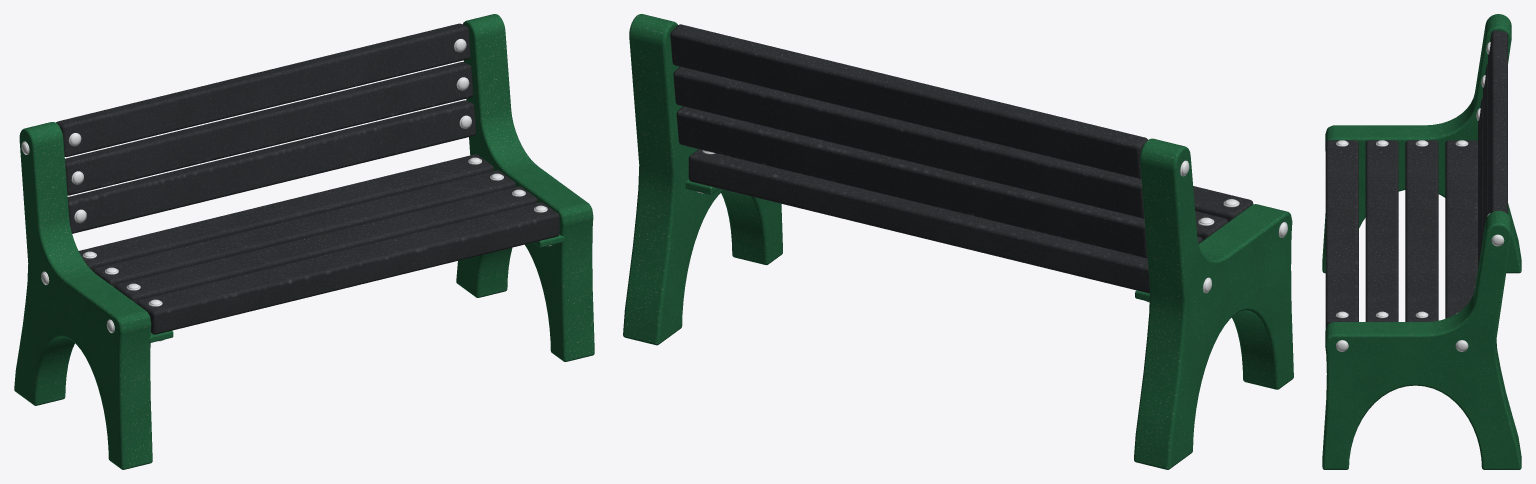
The model's file is banca-claude-texturas-v1.glb.
3 views of the same model, side by side, from view 1: azimuth 30°, elevation 25°; view 2: azimuth 150°, elevation 25°; view 3: azimuth 270°, elevation 25° (orthographic). The views are drawn at different scales.
Visible parts, largest first — view 1: Claude | Soporte izquierdo, Claude | Soporte derecho, Claude | Asiento listón 01, Claude | Respaldo listón 03, Claude | Respaldo listón 02, Claude | Respaldo listón 01, Claude | Asiento listón 03, Claude | Asiento listón 02, Claude | Asiento listón 04; view 2: Claude | Soporte izquierdo, Claude | Soporte derecho, Claude | Respaldo listón 03, Claude | Respaldo listón 02, Claude | Respaldo listón 01, Claude | Asiento listón 04, Claude | Asiento listón 01; view 3: Claude | Soporte derecho, Claude | Asiento listón 01, Claude | Soporte izquierdo, Claude | Asiento listón 02, Claude | Asiento listón 03, Claude | Asiento listón 04, Claude | Respaldo listón 03, Claude | Respaldo listón 02, Claude | Respaldo listón 01.
Boxes of the visible parts, x1,y1,x2,y2 form: Claude | Soporte izquierdo: [14, 122, 152, 469]; Claude | Soporte derecho: [456, 14, 594, 361]; Claude | Asiento listón 01: [136, 202, 559, 334]; Claude | Respaldo listón 03: [56, 23, 470, 156]; Claude | Respaldo listón 02: [65, 62, 473, 195]; Claude | Respaldo listón 01: [67, 100, 476, 233]; Claude | Asiento listón 03: [93, 170, 515, 287]; Claude | Asiento listón 02: [115, 186, 537, 303]; Claude | Asiento listón 04: [79, 154, 493, 270]; Claude | Soporte izquierdo: [1134, 138, 1293, 469]; Claude | Soporte derecho: [623, 14, 782, 345]; Claude | Respaldo listón 03: [670, 24, 1147, 178]; Claude | Respaldo listón 02: [673, 66, 1144, 218]; Claude | Respaldo listón 01: [676, 106, 1147, 258]; Claude | Asiento listón 04: [688, 149, 1149, 293]; Claude | Asiento listón 01: [1193, 186, 1253, 222]; Claude | Soporte derecho: [1322, 210, 1521, 469]; Claude | Asiento listón 01: [1325, 140, 1358, 328]; Claude | Soporte izquierdo: [1322, 14, 1521, 273]; Claude | Asiento listón 02: [1365, 140, 1398, 321]; Claude | Asiento listón 03: [1405, 140, 1438, 321]; Claude | Asiento listón 04: [1445, 140, 1477, 318]; Claude | Respaldo listón 03: [1488, 30, 1507, 214]; Claude | Respaldo listón 02: [1483, 64, 1487, 236]; Claude | Respaldo listón 01: [1478, 97, 1482, 268].
Bounding box in the file's own units: 1.52 × 0.8191 × 0.5985.
3 materials, 2 textured.
